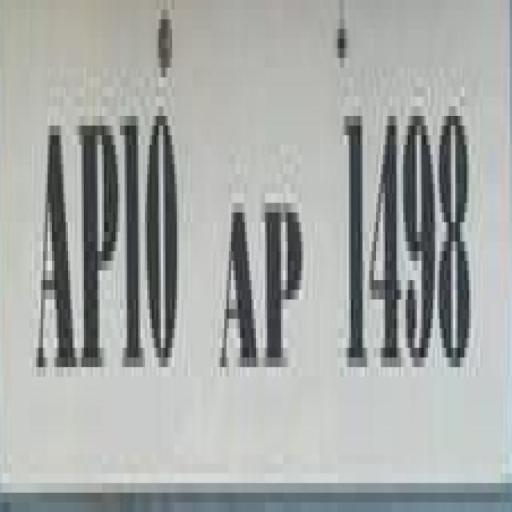number plate: (17, 0, 512, 512)
